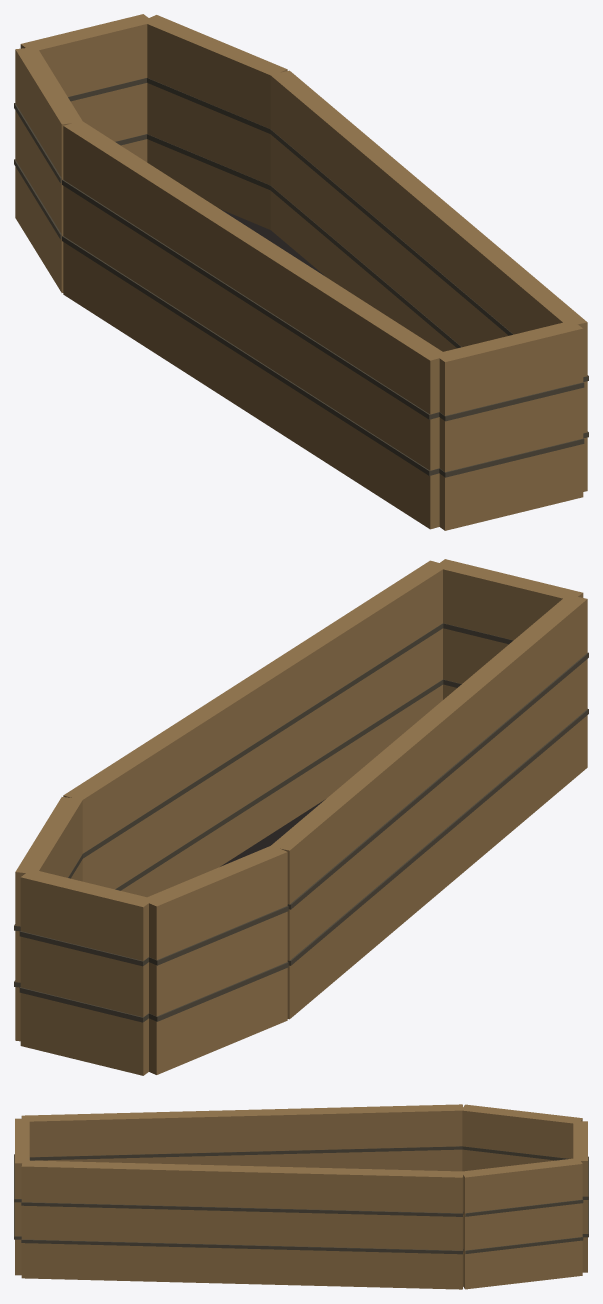
File: Coffin.fbx
3 views of the same model, one above another, from view 1: azimuth 30°, elevation 25°; view 2: azimuth 150°, elevation 25°; view 3: azimuth 270°, elevation 25° (orthographic). The views are drawn at different scales.
Parts seen in each view (by area): view 1: Coffin; view 2: Coffin; view 3: Coffin.
Part boxes in pixels (x1,y1,x2,y2): Coffin: [14, 14, 588, 530]; Coffin: [14, 559, 588, 1075]; Coffin: [14, 1104, 588, 1289].
Bounding box in the file's own units: 0.5966 × 0.42 × 1.96.
